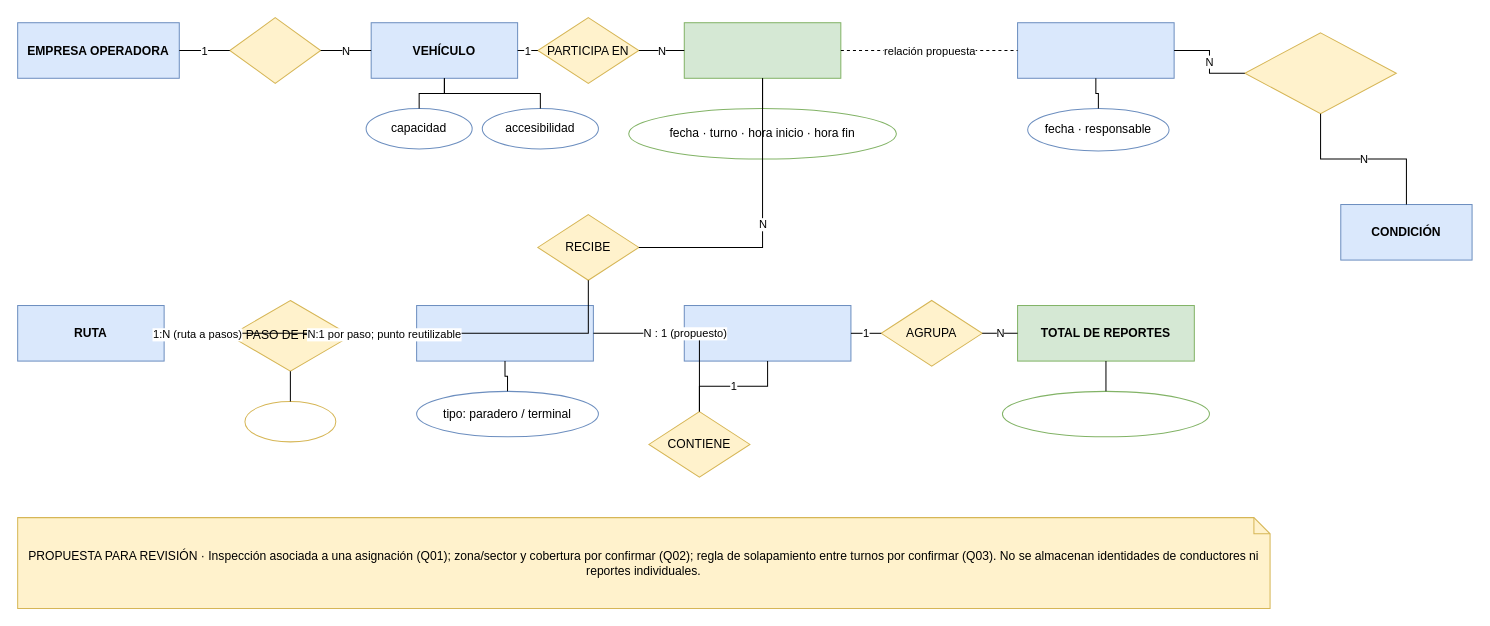
This 1490x626 diagram has some shape labels left out. The box of each missing label's shape, as (x1, y1, x2, y2) in pixels:
ASIGNACIÓN: (683, 22, 841, 78)
INSPECCIÓN: (1017, 22, 1174, 78)
OPERA: (229, 17, 321, 83)
orden: (244, 400, 336, 442)
periodo · cantidad agregada: (1001, 390, 1209, 437)
PUNTO DE SERVICIO: (416, 305, 593, 361)
REVISA\n(resultado por condición): (1244, 32, 1396, 114)
ZONA / SECTOR: (683, 305, 851, 361)
